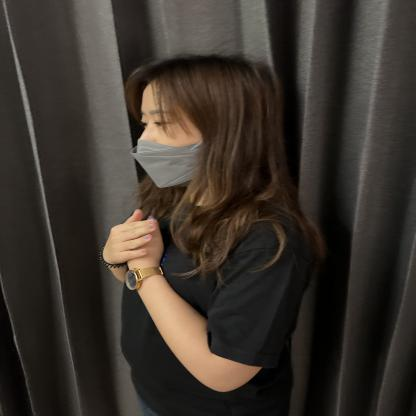Grieve: (54, 160, 193, 318)
